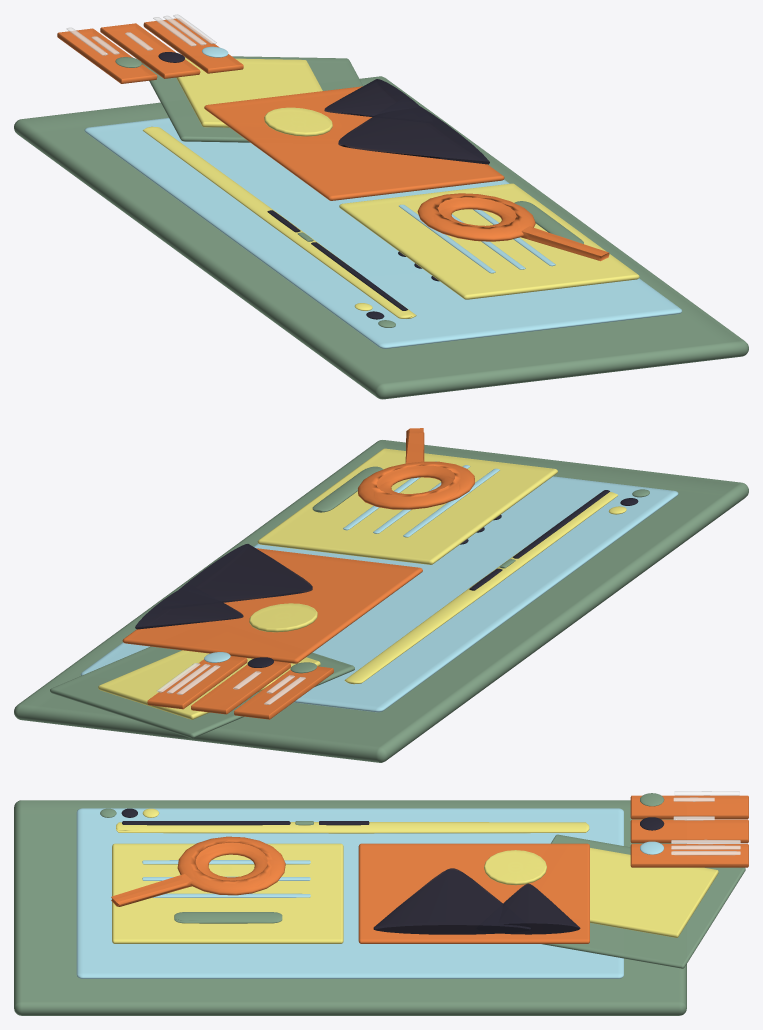
The model's file is web_page.glb.
3 views of the same model, one above another, from view 1: azimuth 30°, elevation 25°; view 2: azimuth 150°, elevation 25°; view 3: azimuth 270°, elevation 25° (orthographic). The views are drawn at different scales.
Visible parts, largest first — view 1: pCube1, pCube2, pCube3, pCube4, pCone3, pCube6, pTorus1, pCube5, pCylinder2, pCube7, pCube9, pCube8 (+3 smaller); view 2: pCube1, pCube2, pCube3, pCube4, pCone3, pCube5, pTorus1, pCylinder2, pCube6, pCube9, pCube7, pCube8 (+4 smaller); view 3: pCube1, pCube2, pCube3, pCube4, pCone3, pCube6, pCube5, pTorus1, pCylinder2, pCube9, pCube8, pCube7 (+5 smaller).
Boxes of the visible parts, <box> form: pCube1: <box>14,76,748,399</box>; pCube2: <box>84,118,682,348</box>; pCube3: <box>339,183,639,299</box>; pCube4: <box>204,86,504,200</box>; pCone3: <box>324,79,489,164</box>; pCube6: <box>176,57,322,127</box>; pTorus1: <box>417,193,609,261</box>; pCube5: <box>142,56,362,142</box>; pCylinder2: <box>143,126,416,318</box>; pCube7: <box>100,23,200,78</box>; pCube9: <box>57,28,157,83</box>; pCube8: <box>143,18,243,73</box>; pCube1: <box>14,440,748,762</box>; pCube2: <box>80,476,678,712</box>; pCube3: <box>257,448,557,564</box>; pCube4: <box>122,548,422,663</box>; pCone3: <box>135,544,312,629</box>; pCube5: <box>50,646,354,738</box>; pTorus1: <box>357,428,474,509</box>; pCylinder2: <box>344,492,618,684</box>; pCube6: <box>98,650,320,719</box>; pCube9: <box>234,666,333,719</box>; pCube7: <box>191,661,290,714</box>; pCube8: <box>147,656,247,709</box>; pCube1: <box>14,800,686,1015</box>; pCube2: <box>76,808,623,978</box>; pCube3: <box>112,843,343,943</box>; pCube4: <box>358,843,589,943</box>; pCone3: <box>373,868,580,934</box>; pCube6: <box>590,848,718,937</box>; pCube5: <box>542,834,745,968</box>; pTorus1: <box>111,836,285,906</box>; pCylinder2: <box>116,822,589,833</box>; pCube9: <box>630,795,748,819</box>; pCube8: <box>630,844,748,867</box>; pCube7: <box>630,819,748,843</box>.
Bounding box in the file's own units: 13.95 × 3.89 × 26.11.
